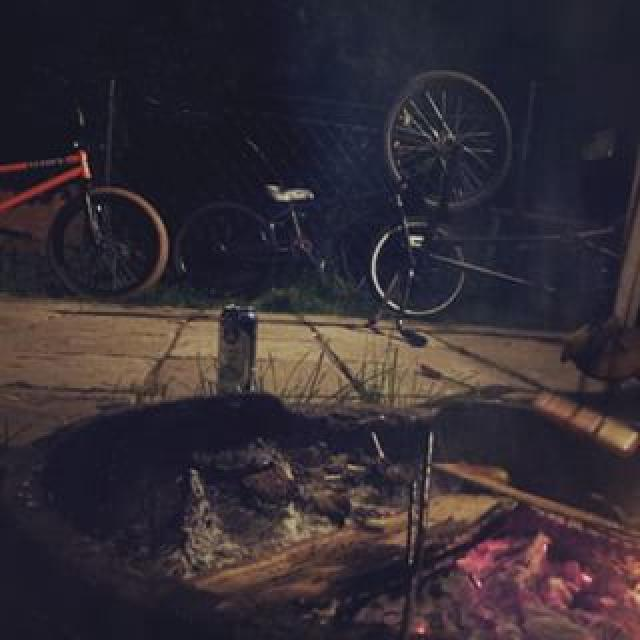Bicycle: (384, 66, 640, 334), (170, 154, 381, 334), (0, 90, 158, 282)
